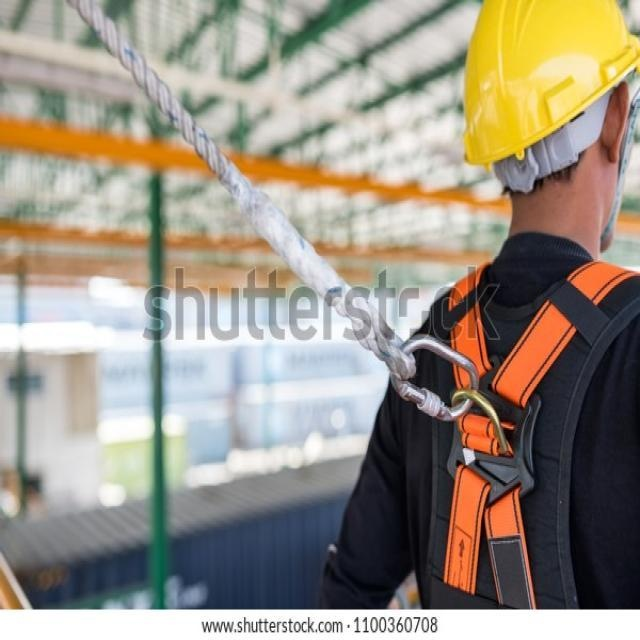Arnes_seguridad: (425, 247, 640, 631)
